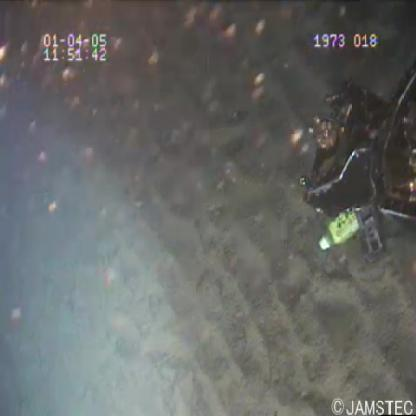Rov: (300, 57, 416, 258)
Rác: (318, 201, 364, 253)
